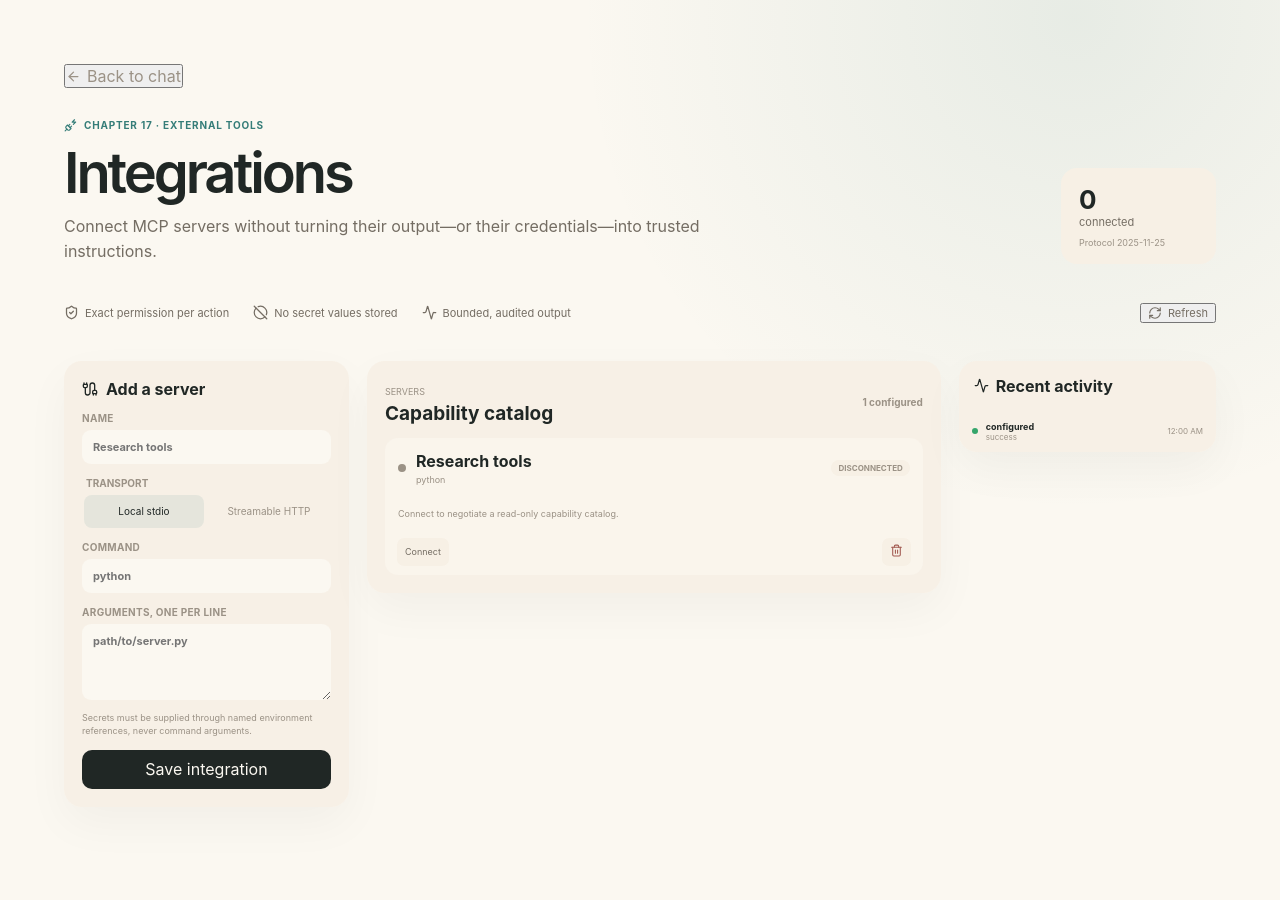
Test: renders negotiated capabilities after an approved connect
The width and height of the screenshot is (1280, 900).
expect the text "Research tools" is shown: met, box [416,451,532,471]
What coordinates should you click on to do the following:
click the button "Connect"
I would click on:
 (423, 552)
Its box is [397,538,449,566].
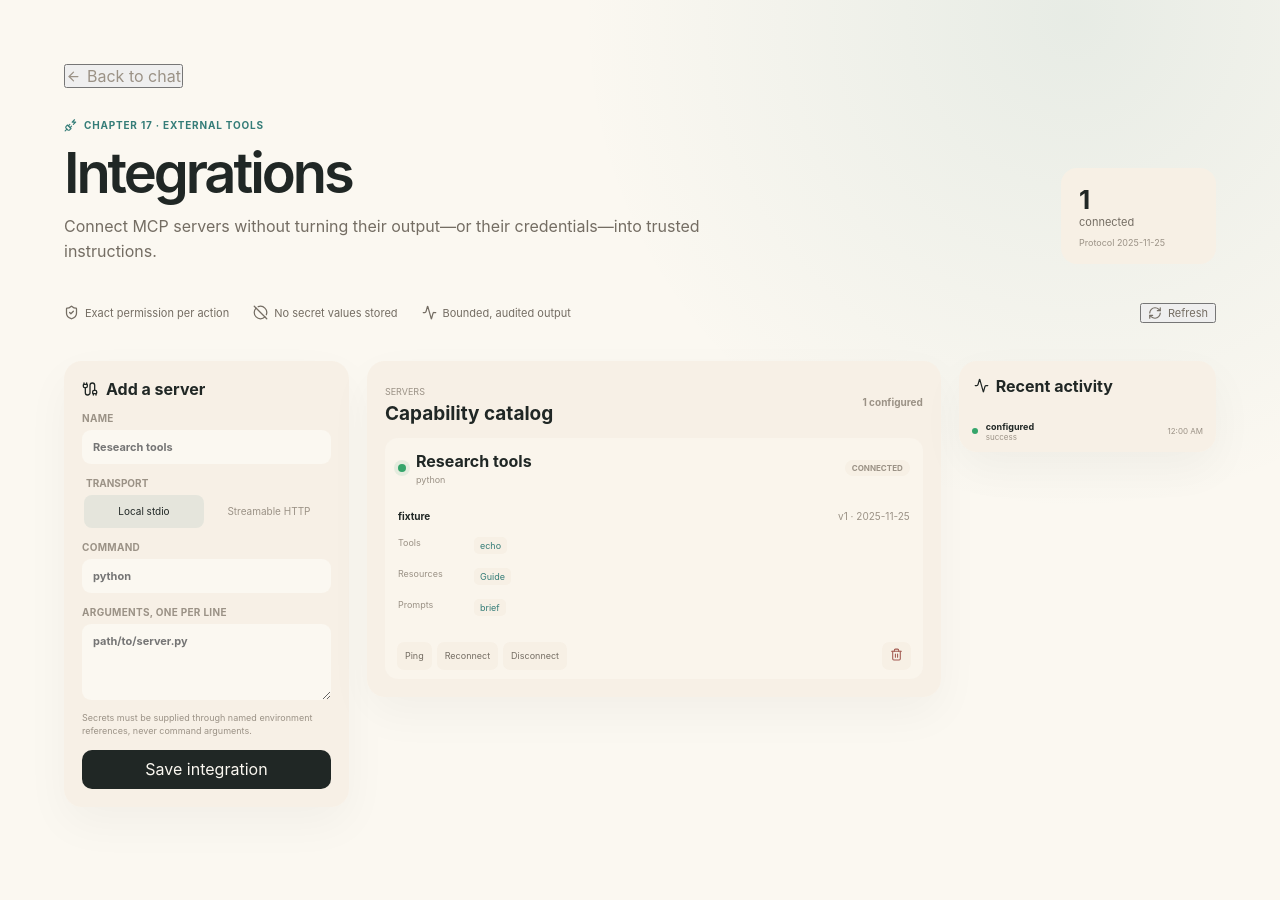
expect the text "echo" is shown: met, box [474,537,507,554]
expect the text "Guide" is shown: met, box [474,568,511,585]
expect the text "brief" is shown: met, box [474,599,506,616]
